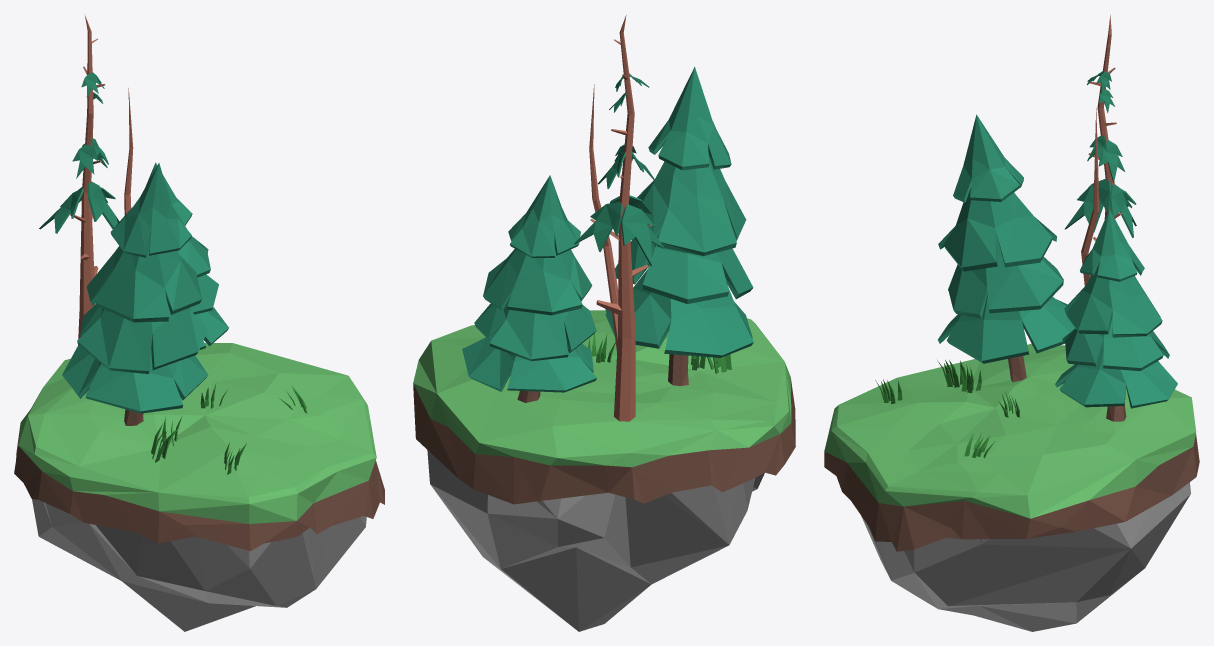
Rendered from land-26-1.fbx.
3 renders of one model, left to right at view 1: azimuth 30°, elevation 25°; view 2: azimuth 150°, elevation 25°; view 3: azimuth 270°, elevation 25°, orthographic. The views are drawn at different scales.
Visible parts, largest first — view 1: polySurface12469, pasted__polySurface6051, polySurface12474, pasted__polySurface6052; view 2: polySurface12469, pasted__polySurface6051, pasted__polySurface6052, polySurface12474; view 3: polySurface12469, pasted__polySurface6051, pasted__polySurface6052, polySurface12474.
Boxes of the visible parts, x1,y1,x2,y2 form: polySurface12469: (14, 343, 384, 631); pasted__polySurface6051: (62, 163, 208, 425); polySurface12474: (39, 14, 133, 338); pasted__polySurface6052: (145, 162, 228, 349); polySurface12469: (413, 310, 795, 631); pasted__polySurface6051: (605, 66, 753, 385); pasted__polySurface6052: (462, 175, 596, 402); polySurface12474: (574, 15, 664, 421); polySurface12469: (824, 343, 1199, 631); pasted__polySurface6051: (938, 114, 1075, 382); pasted__polySurface6052: (1055, 209, 1177, 421); polySurface12474: (1064, 14, 1136, 286).
Size of the model in its own units: 525 by 925 by 534.
1 material, 1 textured.
